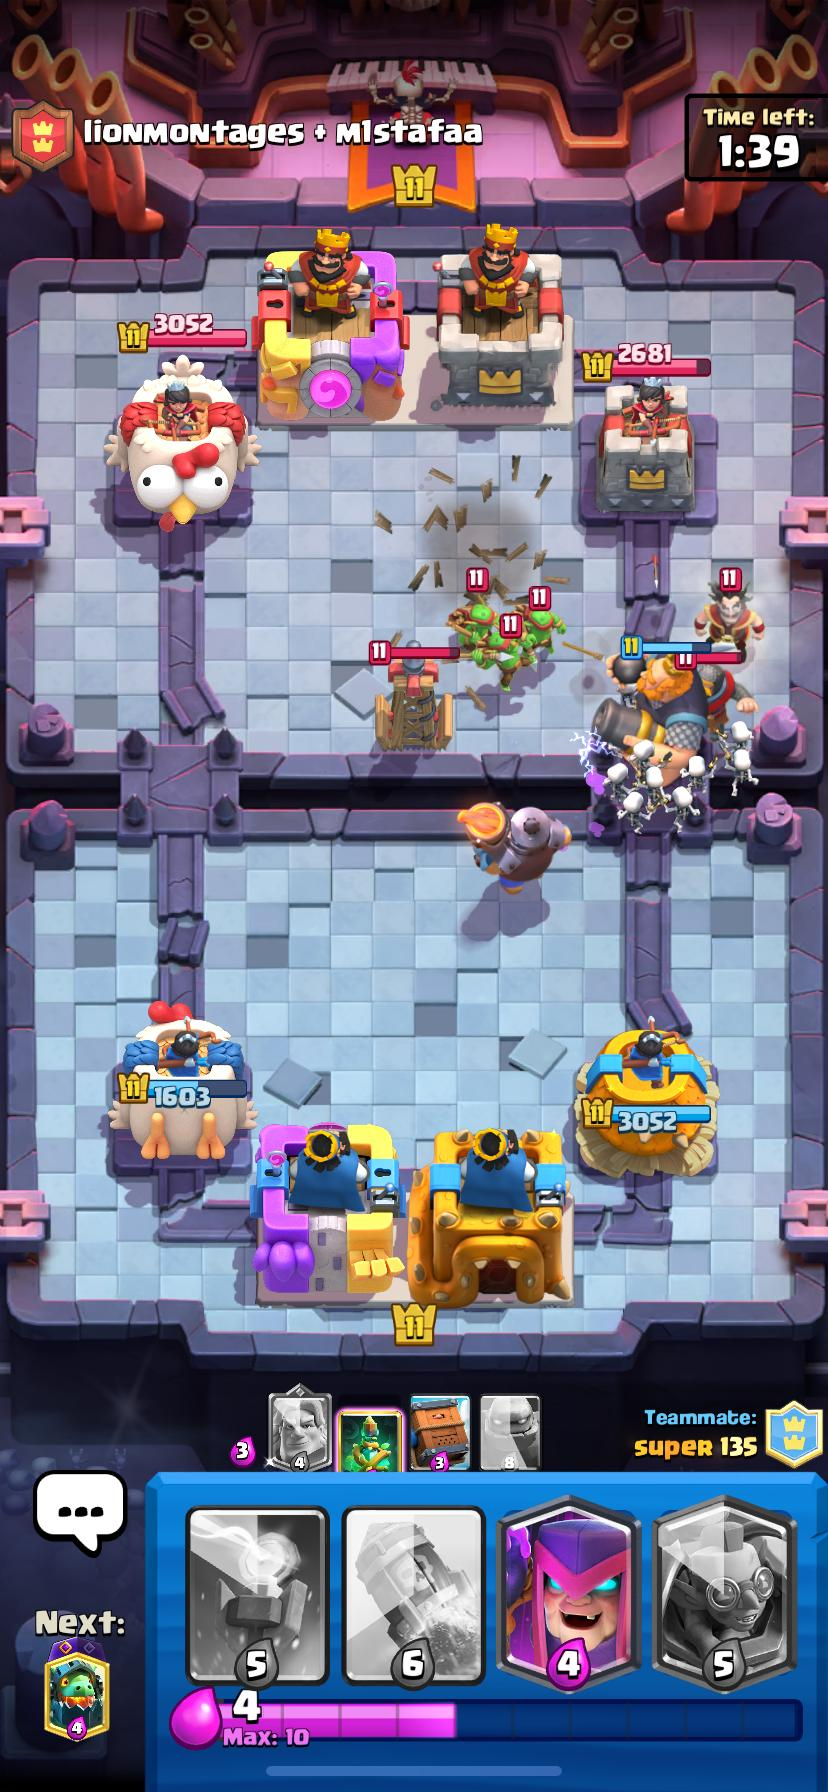EEletrcoWizard: (695, 565, 763, 658)
EKingTower: (257, 227, 408, 418), (435, 224, 573, 418)
EKnight: (592, 639, 709, 758), (699, 665, 762, 738)
ESpearGoblin: (489, 631, 530, 693), (449, 597, 495, 650), (522, 606, 564, 661)
ETesla: (371, 642, 452, 749)
EnemyPrincessTower: (105, 357, 255, 523), (598, 383, 693, 517)
OFurnace: (459, 805, 570, 894)
OLarry: (622, 789, 648, 835), (731, 746, 755, 797), (604, 761, 629, 807), (672, 784, 692, 837), (683, 754, 708, 792), (645, 766, 667, 806), (631, 739, 654, 773), (729, 720, 751, 749)
OwnKingTower: (253, 1122, 403, 1301), (430, 1129, 573, 1306)
OwnPrincessTower: (109, 1003, 256, 1159), (576, 1018, 717, 1177)
